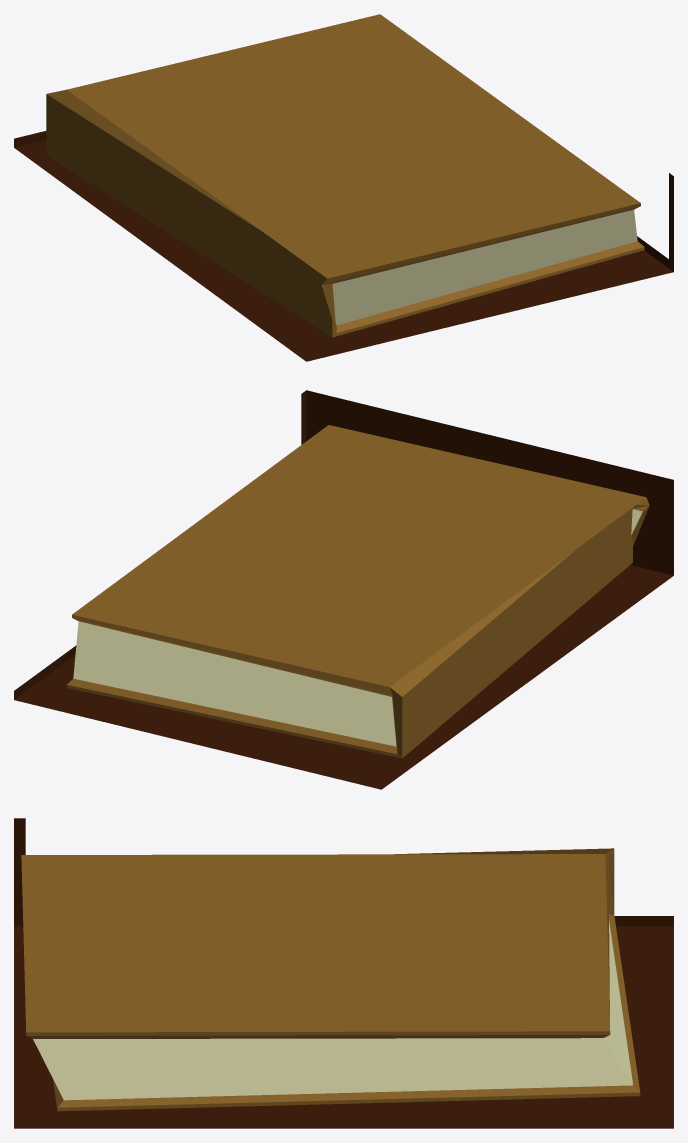
The model's file is Phonebook.fbx.
3 renders of one model, top to bottom at view 1: azimuth 30°, elevation 25°; view 2: azimuth 150°, elevation 25°; view 3: azimuth 270°, elevation 25°, orthographic. The views are drawn at different scales.
Visible parts, largest first — view 1: Cube; view 2: Cube; view 3: Cube.
Boxes of the visible parts, x1,y1,x2,y2 form: Cube: (14,14,673,361); Cube: (14,390,673,789); Cube: (14,818,673,1128).
Bounding box in the file's own units: 2.35 × 0.5854 × 3.24.
